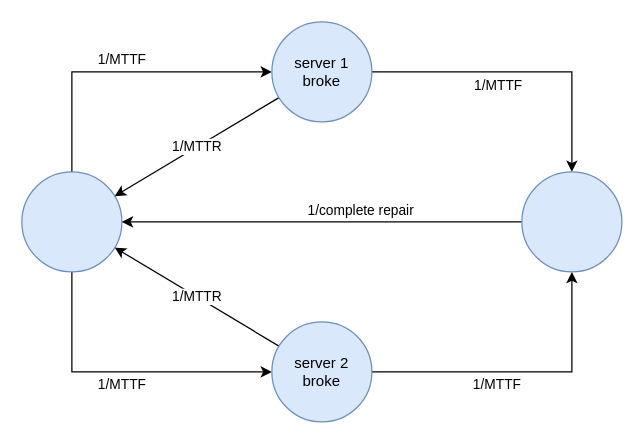
The diagram is 644 pixels wide and 444 high, and some of its shapes have lost their labels. Here are the shapes that lost their labels. From the top down, the centre of each, then its label:
At (71,221): "both working".
At (571,221): "fault".
